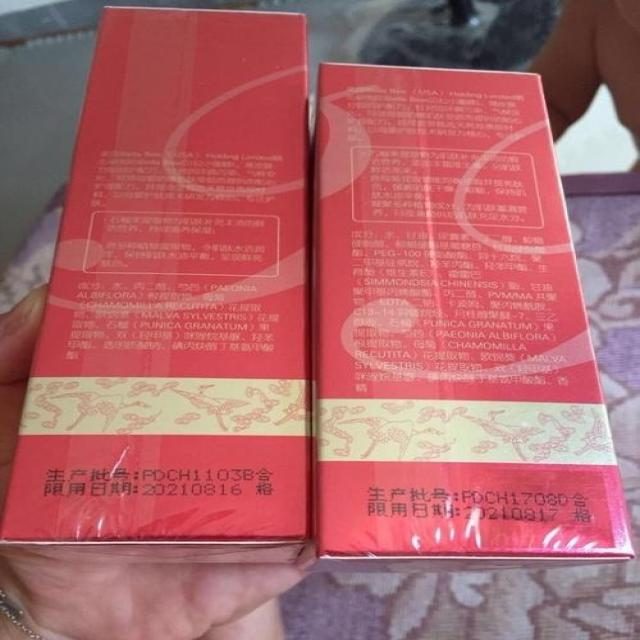box: (292, 60, 636, 571), (1, 5, 312, 567)
